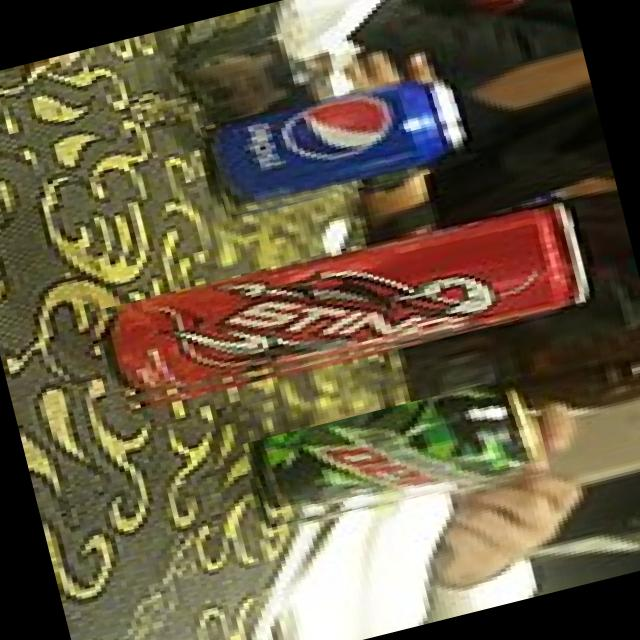Cans: (90, 190, 602, 422), (239, 374, 549, 544), (198, 64, 478, 228)
